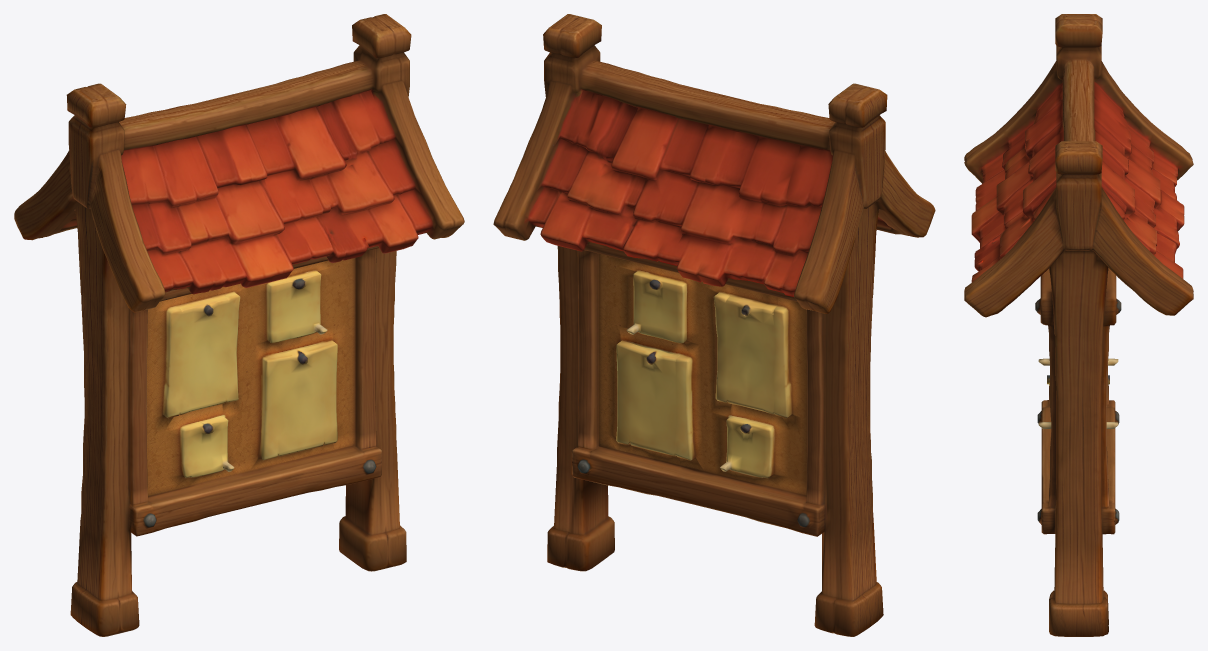
Rendered from notice_board.glb.
3 views of the same model, side by side, from view 1: azimuth 30°, elevation 25°; view 2: azimuth 150°, elevation 25°; view 3: azimuth 270°, elevation 25° (orthographic). The views are drawn at different scales.
Visible parts, largest first — view 1: tripo_node_0a2435d1-4cad-42f1-99bd-06e7a1e8f914; view 2: tripo_node_0a2435d1-4cad-42f1-99bd-06e7a1e8f914; view 3: tripo_node_0a2435d1-4cad-42f1-99bd-06e7a1e8f914.
Part boxes in pixels (x1,y1,x2,y2): tripo_node_0a2435d1-4cad-42f1-99bd-06e7a1e8f914: [14, 14, 464, 636]; tripo_node_0a2435d1-4cad-42f1-99bd-06e7a1e8f914: [493, 14, 935, 636]; tripo_node_0a2435d1-4cad-42f1-99bd-06e7a1e8f914: [964, 14, 1193, 636].
Bounding box in the file's own units: 0.638 × 0.9791 × 0.4196.
1 material, 1 textured.
